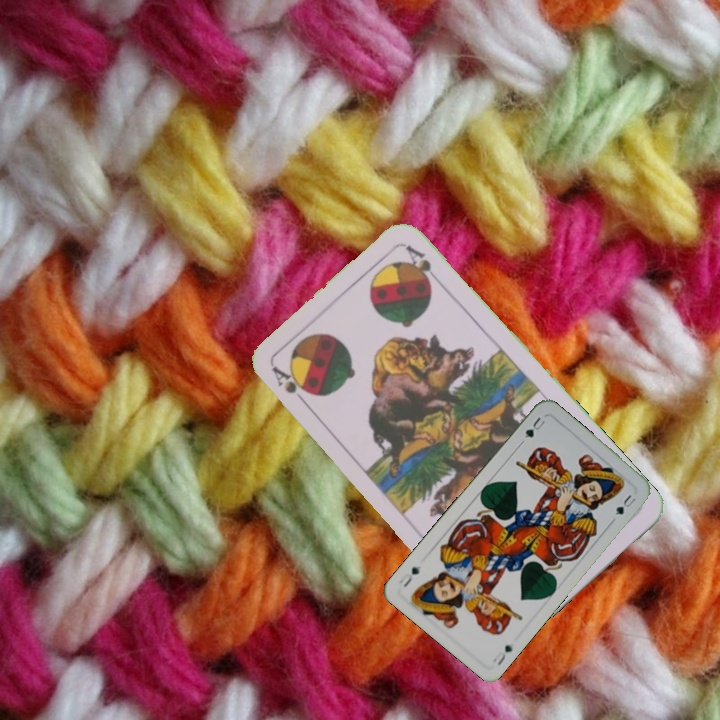GU: (521, 413, 548, 441), (488, 641, 516, 668)
SA: (268, 363, 313, 411)
